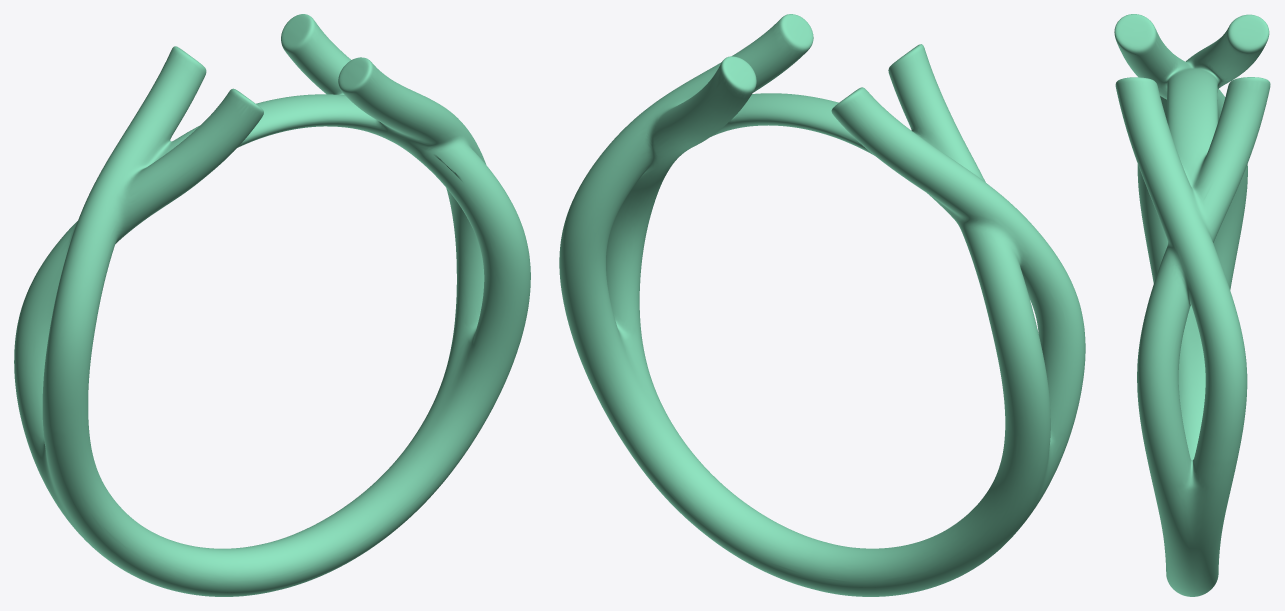
3 views of the same model, side by side, from view 1: azimuth 30°, elevation 25°; view 2: azimuth 150°, elevation 25°; view 3: azimuth 270°, elevation 25° (orthographic).
Parts seen in each view (by area): view 1: Metal02; view 2: Metal02; view 3: Metal02.
Part boxes in pixels (x1=…): Metal02: x1=14, y1=14, x2=530, y2=596; Metal02: x1=559, y1=14, x2=1085, y2=596; Metal02: x1=1114, y1=14, x2=1270, y2=596.
Size of the model in its own units: 21.15 by 22.22 by 5.98.
